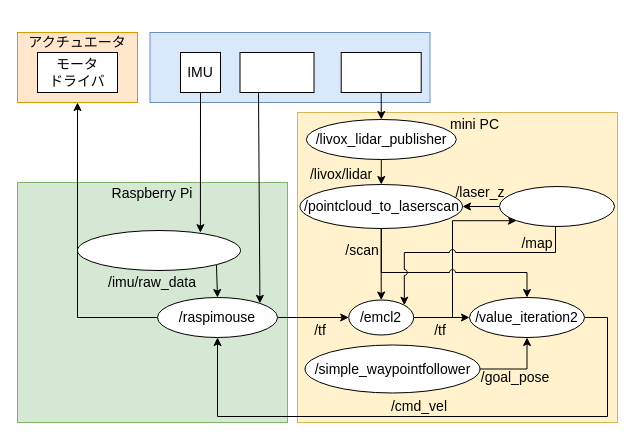
Image size: 635x442. Some labels were removed from this diagram. Here are the shapes that lost their labels. From the top down, the box of each, then its label:
(239, 52, 314, 92): エンコーダ
(149, 32, 430, 102): センサ
(340, 52, 421, 92): 3D LiDAR
(498, 186, 614, 226): /map_manager
(76, 230, 240, 270): /rt_usb_9axisimu_driver
